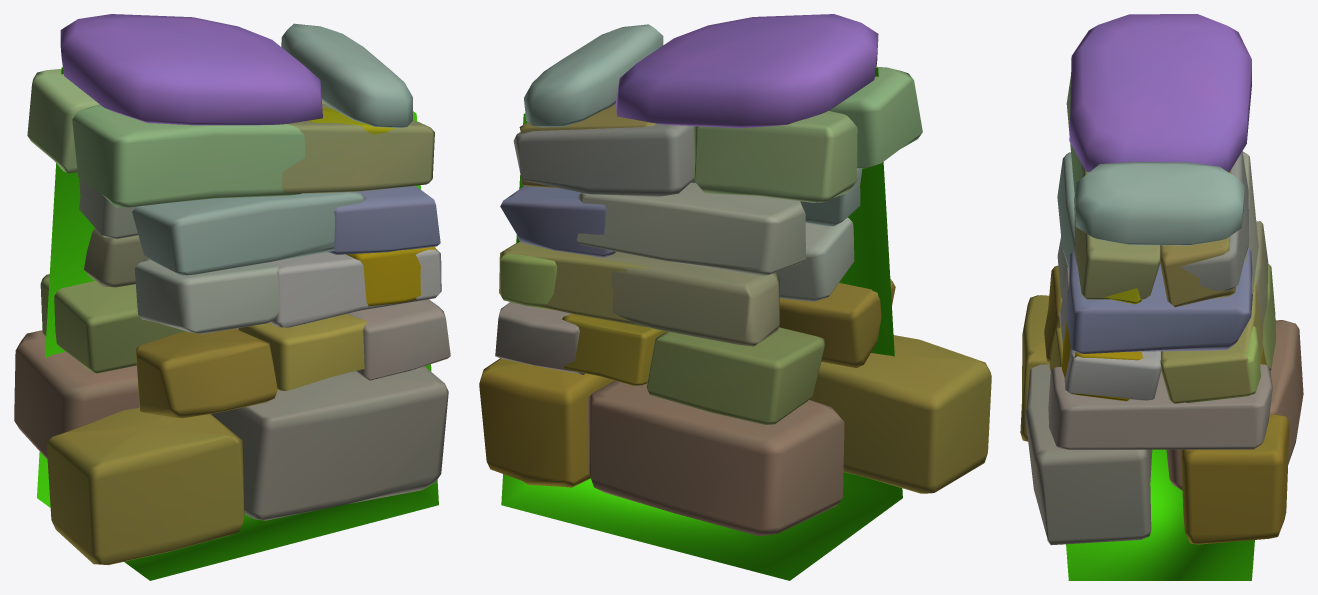
The model's file is SM_Prop_wall_end_15.glb.
3 views of the same model, side by side, from view 1: azimuth 30°, elevation 25°; view 2: azimuth 150°, elevation 25°; view 3: azimuth 270°, elevation 25° (orthographic). The views are drawn at different scales.
Visible parts, largest first — view 1: SM_Prop_wall_end_15; view 2: SM_Prop_wall_end_15; view 3: SM_Prop_wall_end_15.
Part boxes in pixels (x1=…): SM_Prop_wall_end_15: x1=14, y1=14, x2=450, y2=580; SM_Prop_wall_end_15: x1=479, y1=14, x2=991, y2=580; SM_Prop_wall_end_15: x1=1020, y1=14, x2=1303, y2=580.
Size of the model in its own units: 1.24 by 1.54 by 0.8933.
